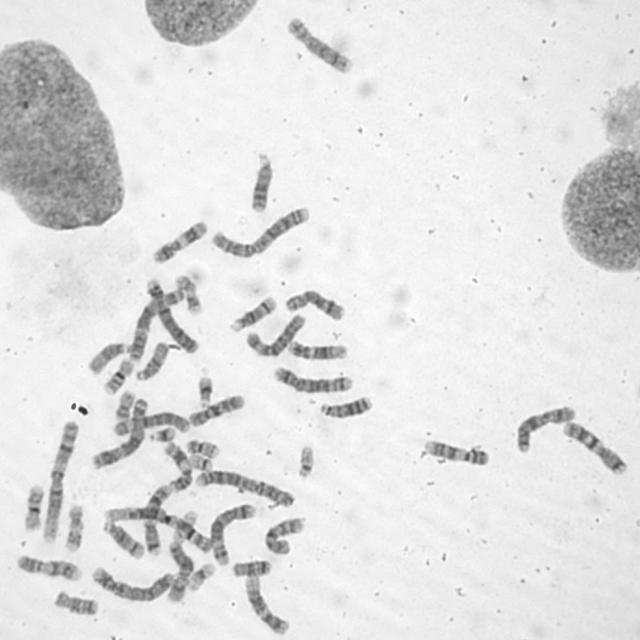A1: (102, 506, 215, 554), (42, 419, 80, 545)
A2: (211, 204, 311, 260), (195, 470, 296, 508)
A3: (90, 397, 150, 471), (128, 289, 186, 363)
B4: (145, 277, 201, 354), (92, 565, 174, 603)
B5: (210, 503, 257, 568), (272, 366, 354, 394)
C10: (187, 393, 246, 428), (262, 516, 308, 557)
C11: (153, 220, 207, 265), (162, 441, 193, 492)
C12: (244, 573, 292, 638), (287, 340, 350, 360)
C6: (244, 312, 306, 359), (112, 411, 191, 438)
C7: (562, 421, 630, 478), (143, 485, 173, 557)
C8: (286, 16, 357, 77), (284, 289, 345, 320)
C9: (424, 438, 491, 466), (15, 554, 84, 581)
D13: (248, 152, 278, 214), (318, 396, 374, 418)
D14: (229, 295, 278, 333), (104, 522, 146, 562)
D15: (85, 341, 137, 376), (134, 340, 168, 383)
E16: (102, 358, 134, 396), (23, 484, 45, 534)
E17: (175, 275, 204, 315), (66, 505, 84, 552)
E18: (51, 590, 99, 617), (233, 560, 272, 577)
F19: (172, 511, 199, 543), (188, 562, 215, 592)
F20: (112, 390, 136, 424), (185, 439, 220, 458)
G21: (148, 426, 176, 444), (198, 375, 213, 408)
G22: (298, 444, 315, 480), (188, 455, 214, 471)
X: (515, 405, 577, 453), (166, 542, 194, 604)
